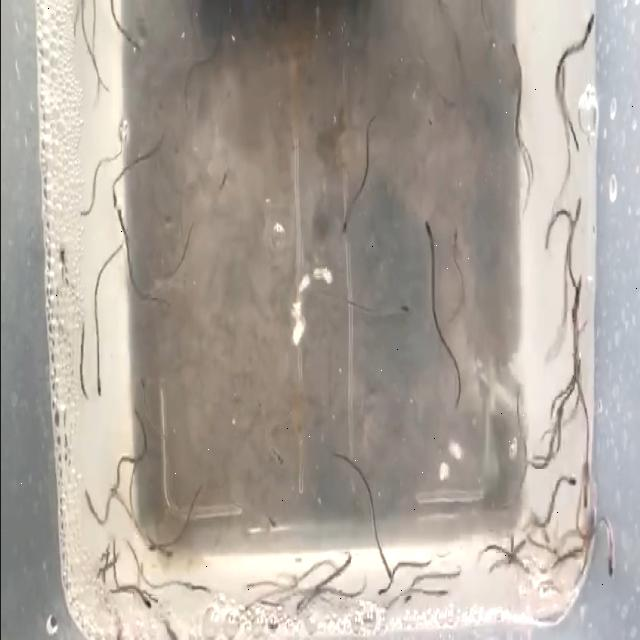inactive_glass_eel: (568, 192, 584, 240), (91, 352, 105, 406), (562, 466, 580, 506), (584, 481, 600, 525), (58, 244, 72, 294), (579, 13, 596, 51), (570, 278, 584, 324), (391, 294, 413, 320), (264, 514, 283, 544), (215, 157, 229, 197), (82, 488, 100, 518), (423, 219, 438, 253), (604, 544, 616, 586), (266, 616, 287, 640), (136, 591, 156, 616), (271, 448, 288, 476), (372, 580, 392, 603), (509, 41, 524, 71), (336, 211, 351, 239), (578, 472, 588, 512), (109, 466, 120, 500), (116, 207, 130, 233), (552, 402, 564, 432), (396, 586, 414, 606), (146, 536, 162, 558), (452, 222, 459, 270), (382, 560, 396, 584), (159, 546, 175, 566), (432, 584, 448, 603), (241, 580, 259, 596), (108, 184, 118, 212)
